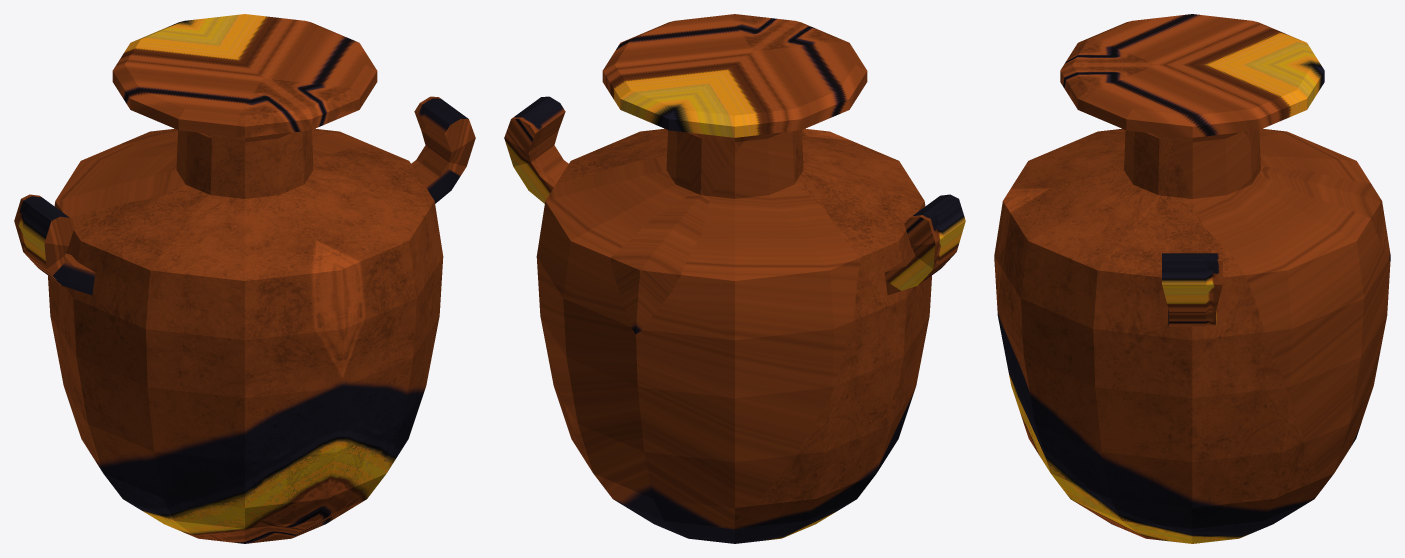
File: JAR2.fbx
3 renders of one model, left to right at view 1: azimuth 30°, elevation 25°; view 2: azimuth 150°, elevation 25°; view 3: azimuth 270°, elevation 25°, orthographic.
Parts seen in each view (by area): view 1: JAR2 Low; view 2: JAR2 Low; view 3: JAR2 Low.
Part boxes in pixels (x1,y1,x2,y2): JAR2 Low: (14,14,475,543); JAR2 Low: (504,14,965,543); JAR2 Low: (994,14,1390,543).
Bounding box in the file's own units: 104 × 101 × 82.88.
